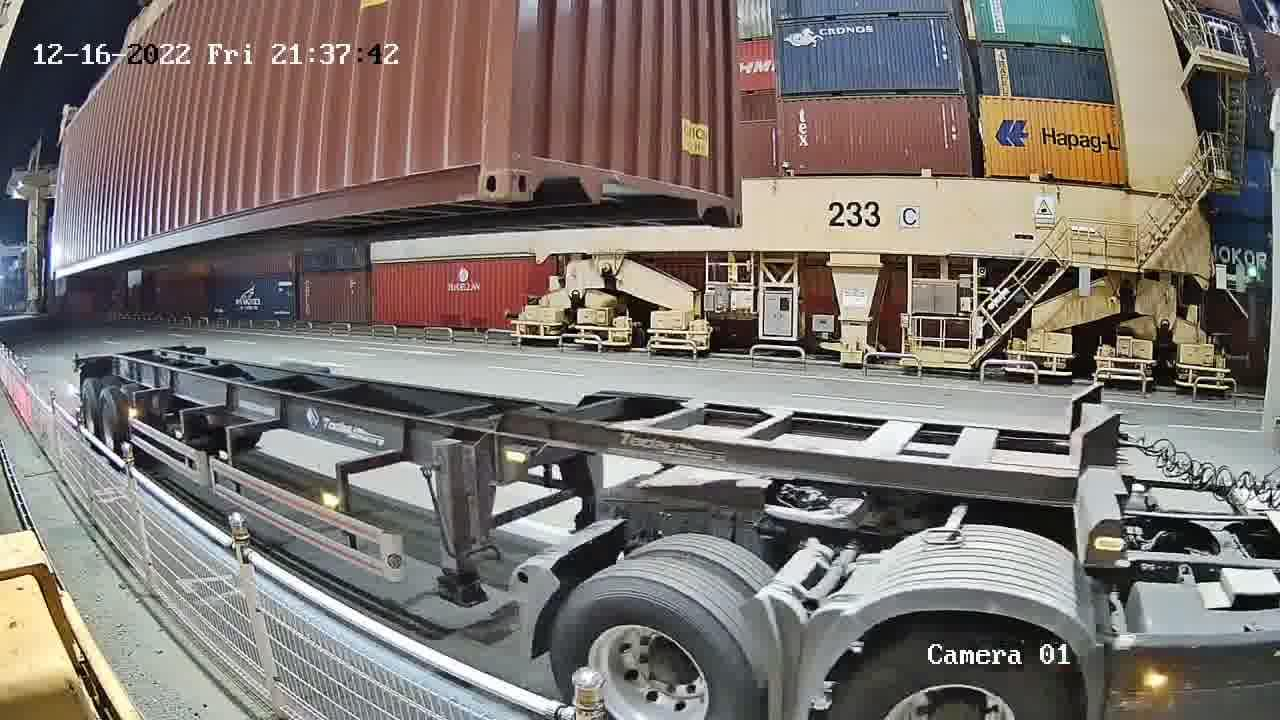Hole_L: (510, 120, 586, 199)
Hole_R: (433, 122, 508, 201), (705, 159, 745, 225)
Tire: (545, 580, 759, 719), (823, 622, 1095, 718)
